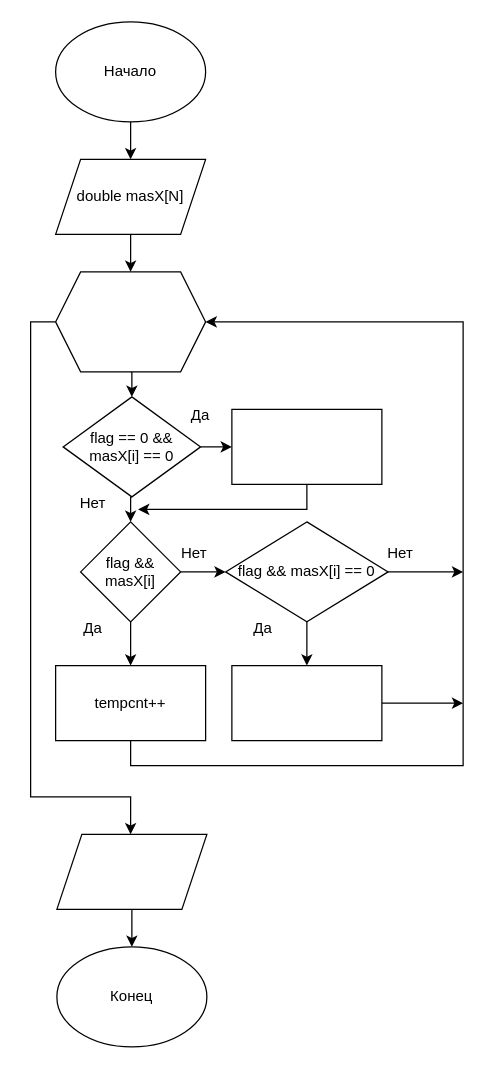
This 495x1069 diagram has some shape labels left out. The shapes that lost their labels are listed below. From the top down, each one's centre as x and y in pixels, then its label:
At [130,321]: "int i = 0; i < N; i++".
At [306,446]: "flag = 1 continue".
At [306,702]: "cnt = tempcnt tempcnt++".
At [131,871]: "cnt".
